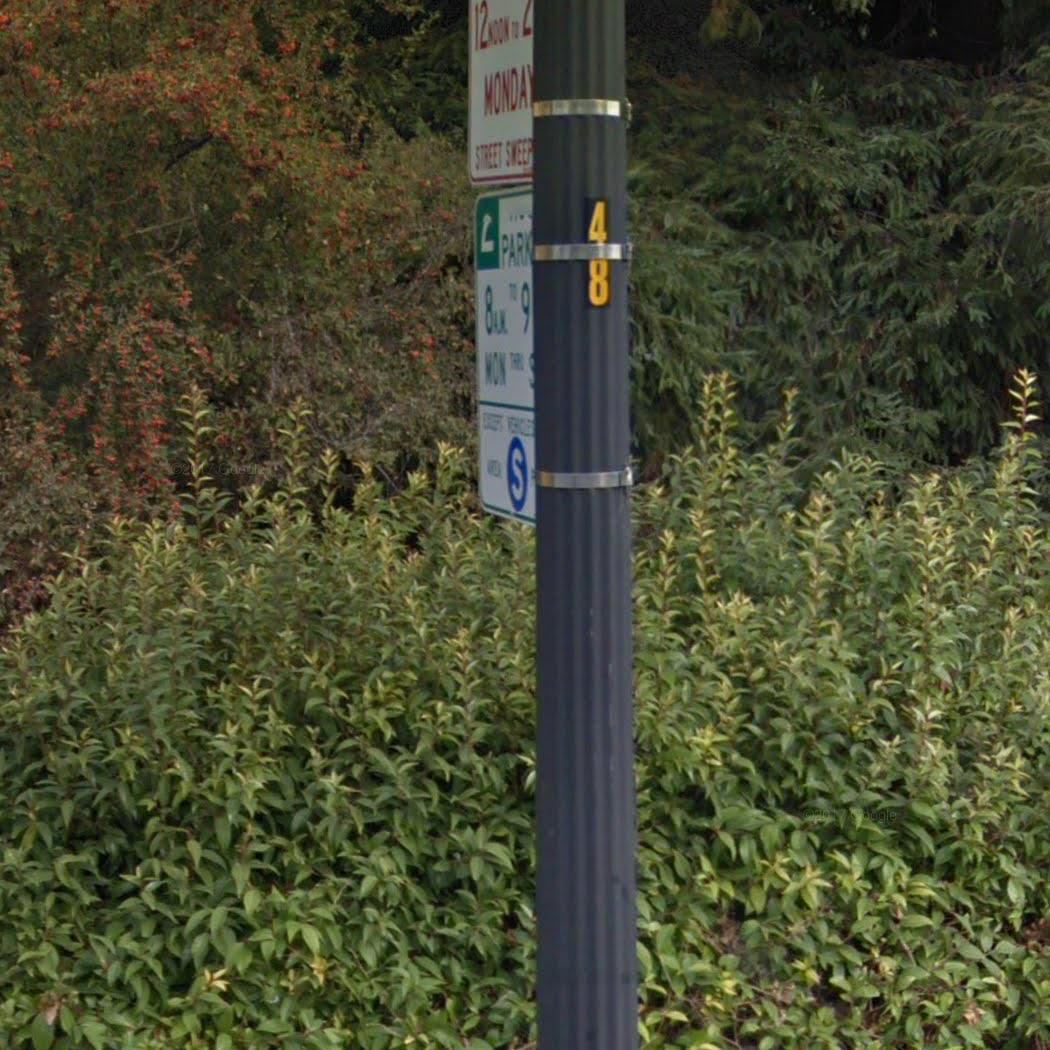2 Hour Parking: (466, 183, 549, 531)
No Parking: (462, 0, 546, 196)
